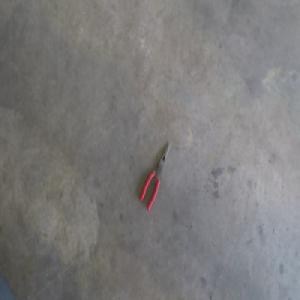Pliers: (139, 139, 171, 208)
